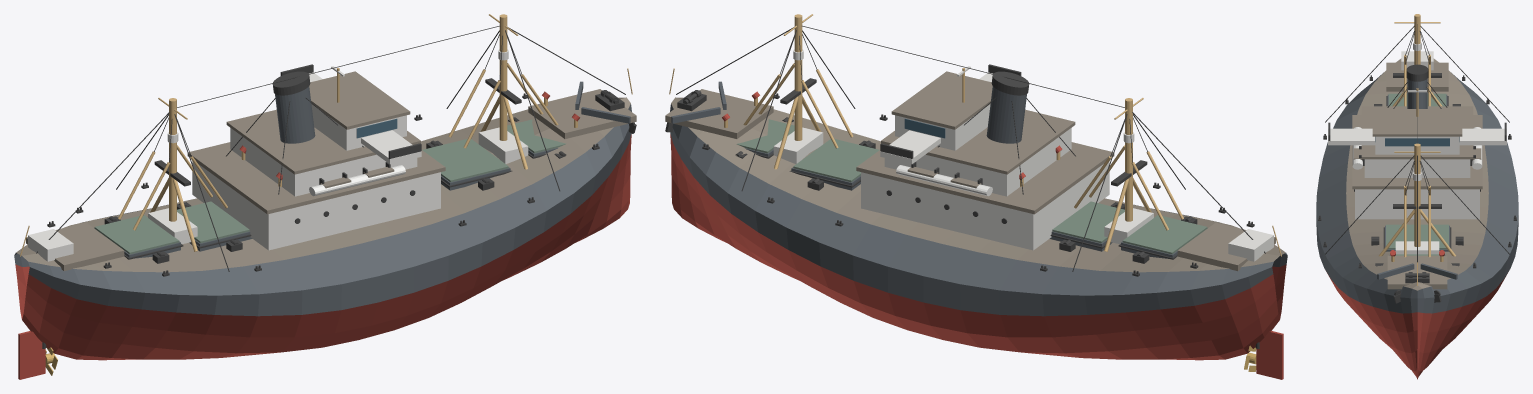
Rendered from Ship_Truong_Xuan_Final.fbx.
3 renders of one model, left to right at view 1: azimuth 30°, elevation 25°; view 2: azimuth 150°, elevation 25°; view 3: azimuth 270°, elevation 25°, orthographic. The views are drawn at different scales.
Visible parts, largest first — view 1: Hull_Steel_Main, Deckhouse_Tier1, Deckhouse_Tier1_Roof, Deckhouse_Tier2_Roof, Bridge_Monkey_Island, Deckhouse_Tier2_Officers, Forecastle_Deck_Raised, Hatch_2_Fwd_Cover, Poop_Deck_Raised, Hatch_4_Stern_Cover, Funnel_Smokestack, Hatch_3_Aft_Cover (+10 smaller); view 2: Hull_Steel_Main, Deckhouse_Tier1, Deckhouse_Tier1_Roof, Deckhouse_Tier2_Roof, Bridge_Monkey_Island, Deckhouse_Tier2_Officers, Forecastle_Deck_Raised, Hatch_2_Fwd_Cover, Poop_Deck_Raised, Hatch_4_Stern_Cover, Funnel_Smokestack, Hatch_3_Aft_Cover (+10 smaller); view 3: Hull_Steel_Main, Deckhouse_Tier1, Bridge_Monkey_Island, Deckhouse_Tier1_Roof, Deckhouse_Tier2_Officers, Deckhouse_Tier2_Roof, Forecastle_Deck_Raised, Wheelhouse_NavBridge, Poop_Deck_Raised, Hatch_2_Fwd_Cover, Bridge_Wing_Port, Bridge_Wing_Stbd (+15 smaller).
Boxes of the visible parts, left/top/right/bottom form: Hull_Steel_Main: left=14, top=97, right=631, bottom=360; Deckhouse_Tier1: left=192, top=161, right=440, bottom=250; Deckhouse_Tier1_Roof: left=187, top=142, right=445, bottom=214; Deckhouse_Tier2_Roof: left=226, top=109, right=420, bottom=174; Bridge_Monkey_Island: left=309, top=71, right=410, bottom=129; Deckhouse_Tier2_Officers: left=230, top=128, right=417, bottom=196; Forecastle_Deck_Raised: left=528, top=89, right=636, bottom=138; Hatch_2_Fwd_Cover: left=422, top=139, right=508, bottom=182; Poop_Deck_Raised: left=26, top=222, right=124, bottom=271; Hatch_4_Stern_Cover: left=94, top=215, right=179, bottom=254; Funnel_Smokestack: left=275, top=86, right=315, bottom=143; Hatch_3_Aft_Cover: left=177, top=201, right=249, bottom=243; Hull_Steel_Main: left=670, top=97, right=1287, bottom=360; Deckhouse_Tier1: left=861, top=161, right=1109, bottom=250; Deckhouse_Tier1_Roof: left=856, top=142, right=1114, bottom=214; Deckhouse_Tier2_Roof: left=881, top=109, right=1075, bottom=174; Bridge_Monkey_Island: left=891, top=71, right=992, bottom=129; Deckhouse_Tier2_Officers: left=884, top=128, right=1071, bottom=196; Forecastle_Deck_Raised: left=665, top=89, right=773, bottom=138; Hatch_2_Fwd_Cover: left=793, top=139, right=879, bottom=182; Poop_Deck_Raised: left=1177, top=222, right=1275, bottom=271; Hatch_4_Stern_Cover: left=1122, top=215, right=1207, bottom=254; Funnel_Smokestack: left=986, top=86, right=1026, bottom=143; Hatch_3_Aft_Cover: left=1052, top=201, right=1124, bottom=243; Hull_Steel_Main: left=1316, top=58, right=1518, bottom=379; Deckhouse_Tier1: left=1355, top=189, right=1479, bottom=219; Bridge_Monkey_Island: left=1372, top=109, right=1462, bottom=136; Deckhouse_Tier1_Roof: left=1352, top=115, right=1482, bottom=189; Deckhouse_Tier2_Officers: left=1364, top=159, right=1470, bottom=177; Deckhouse_Tier2_Roof: left=1361, top=106, right=1473, bottom=159; Forecastle_Deck_Raised: left=1387, top=255, right=1447, bottom=289; Wheelhouse_NavBridge: left=1375, top=136, right=1459, bottom=154; Poop_Deck_Raised: left=1386, top=62, right=1448, bottom=91; Hatch_2_Fwd_Cover: left=1386, top=224, right=1448, bottom=249; Bridge_Wing_Port: left=1459, top=128, right=1506, bottom=145; Bridge_Wing_Stbd: left=1328, top=128, right=1375, bottom=145.
Bounding box in the file's own units: 42691 × 17638 × 14922.
